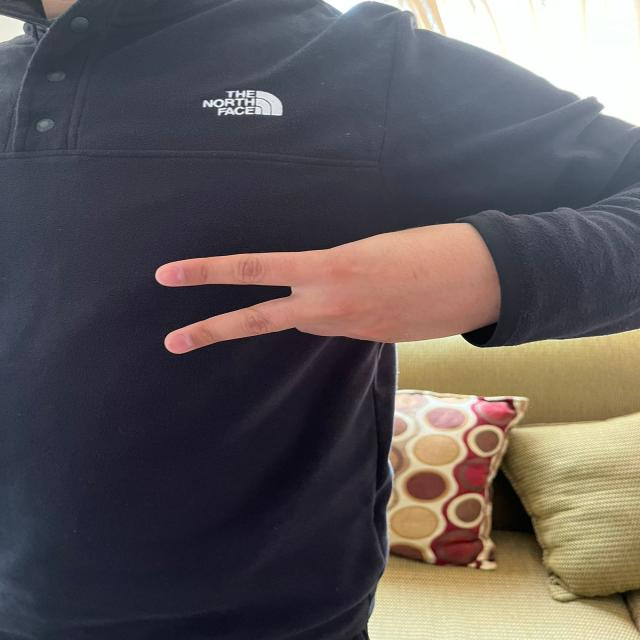H: (149, 216, 527, 370)
